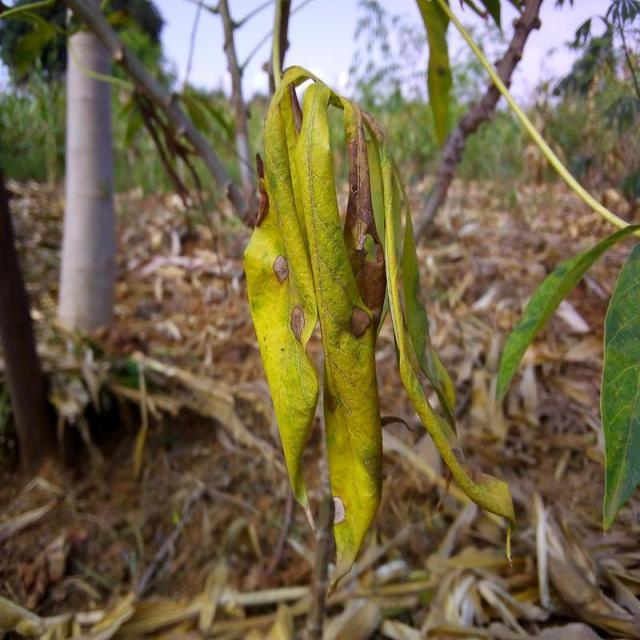cassava leaf: (242, 64, 516, 594), (294, 80, 384, 596), (599, 239, 639, 532)
